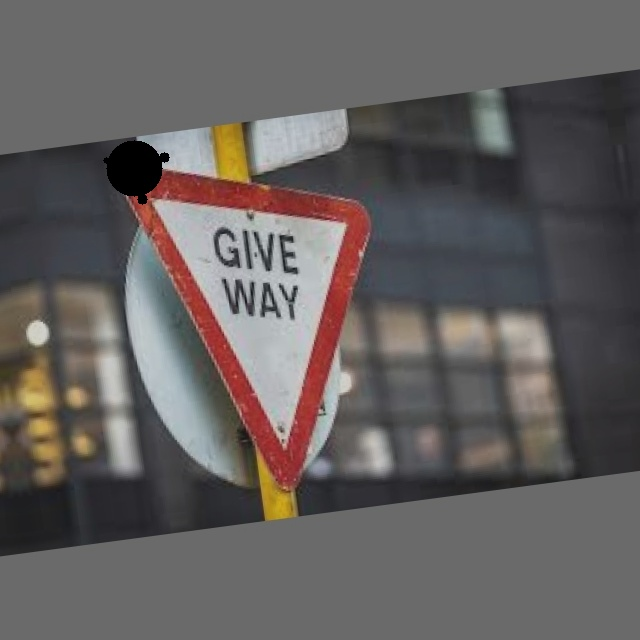Give_Way: (129, 138, 403, 506)
